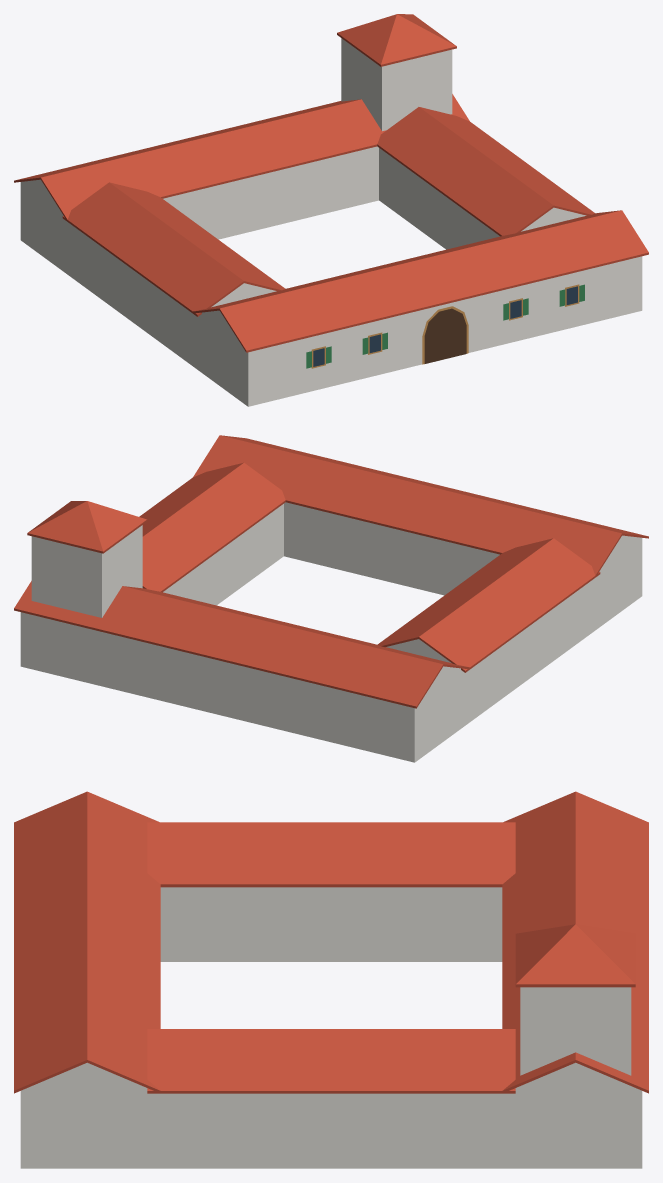
File: cortijo.glb
The picture shows the model from 3 angles, top to bottom: view 1: azimuth 30°, elevation 25°; view 2: azimuth 150°, elevation 25°; view 3: azimuth 270°, elevation 25°; orthographic projection. The views are drawn at different scales.
Parts seen in each view (by area): view 1: cortijo; view 2: cortijo; view 3: cortijo.
Part boxes in pixels (x1=…): cortijo: x1=14, y1=14, x2=648, y2=406; cortijo: x1=14, y1=435, x2=648, y2=762; cortijo: x1=14, y1=791, x2=648, y2=1168.
Bounding box in the file's own units: 28.6 × 10.74 × 28.6.
1 material, 1 textured.
